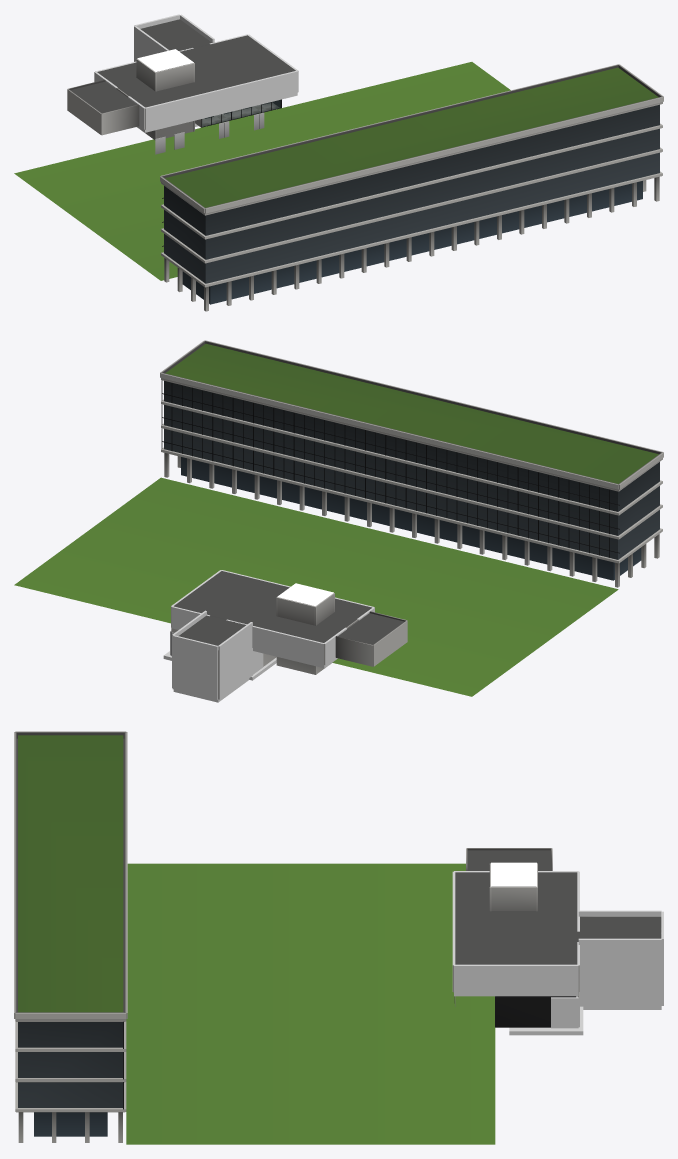
Rendered from zone_04_corridor.glb.
3 renders of one model, top to bottom at view 1: azimuth 30°, elevation 25°; view 2: azimuth 150°, elevation 25°; view 3: azimuth 270°, elevation 25°, orthographic. The views are drawn at different scales.
Visible parts, largest first — view 1: ENV_tang_tret, ENV_tang_tren, COL_tren_tuong_nam, ENV_cau_thang, COL_thang_tuong_tay, COL_san_tren; view 2: ENV_tang_tret, ENV_tang_tren, COL_thang_tuong_bac, COL_thang_tuong_tay, COL_tren_tuong_bac_trai, ENV_cau_thang; view 3: ENV_tang_tret, ENV_tang_tren, COL_thang_tuong_dong, COL_tren_tuong_dong, ENV_cau_thang, COL_dau_hanh_lang_dong, COL_san_tret, COL_san_tren.
Boxes of the visible parts, x1,y1,x2,y2 form: ENV_tang_tret: (14,62,663,311); ENV_tang_tren: (67,35,295,154); COL_tren_tuong_nam: (145,71,298,129); ENV_cau_thang: (140,19,211,51); COL_thang_tuong_tay: (134,26,168,61); COL_san_tren: (137,93,297,132); ENV_tang_tret: (14,340,663,696); ENV_tang_tren: (171,571,407,674); COL_thang_tuong_bac: (172,635,218,699); COL_thang_tuong_tay: (218,622,252,699); COL_tren_tuong_bac_trai: (226,619,323,665); ENV_cau_thang: (178,615,245,699); ENV_tang_tret: (14,731,579,1144); ENV_tang_tren: (453,848,579,1006); COL_thang_tuong_dong: (578,938,661,1006); COL_tren_tuong_dong: (454,964,578,992); ENV_cau_thang: (578,916,661,938); COL_dau_hanh_lang_dong: (551,997,578,1028); COL_san_tret: (509,1006,583,1035); COL_san_tren: (454,992,578,996).
Bounding box in the file's own units: 72.3 × 16.2 × 70.4.
